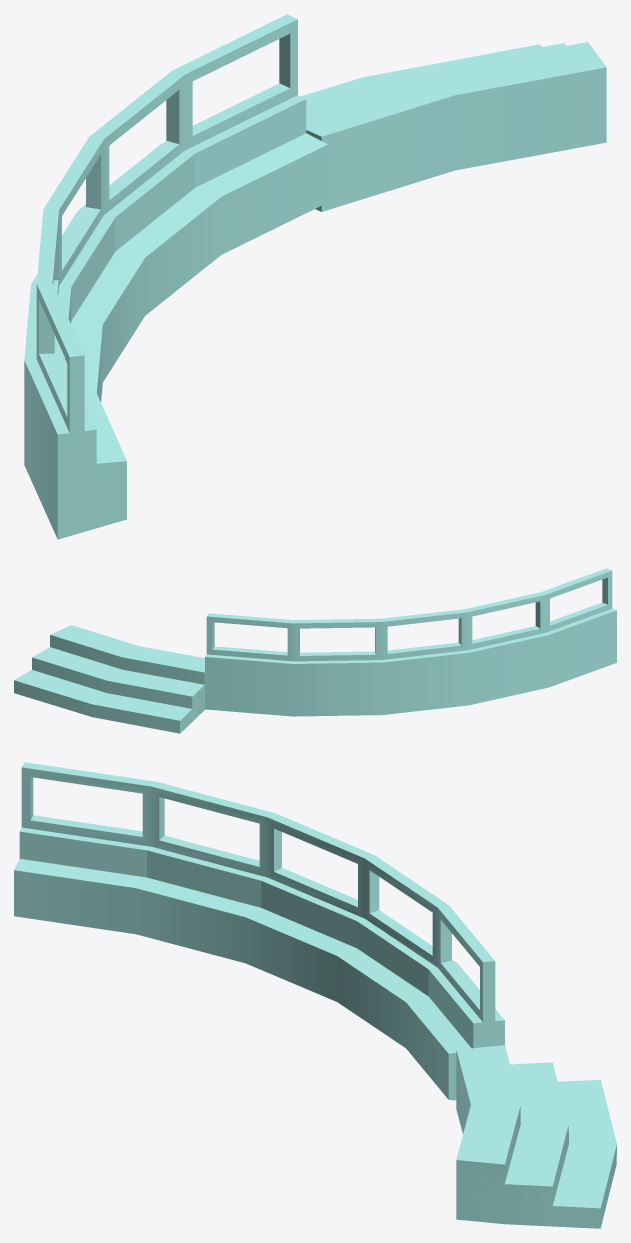
File: floor2.obj
3 views of the same model, one above another, from view 1: azimuth 30°, elevation 25°; view 2: azimuth 150°, elevation 25°; view 3: azimuth 270°, elevation 25° (orthographic). The views are drawn at different scales.
Parts seen in each view (by area): view 1: polySurface3840 main_ring, polySurface3844 stairs_ring; view 2: polySurface3840 main_ring, polySurface3844 stairs_ring; view 3: polySurface3840 main_ring, polySurface3844 stairs_ring.
Part boxes in pixels (x1,y1,x2,y2): polySurface3840 main_ring: (24, 14, 327, 539); polySurface3844 stairs_ring: (301, 42, 606, 211); polySurface3840 main_ring: (205, 568, 616, 716); polySurface3844 stairs_ring: (14, 625, 204, 733); polySurface3840 main_ring: (14, 762, 504, 1100); polySurface3844 stairs_ring: (456, 1045, 616, 1228).
Bounding box in the file's own units: 3200 × 661 × 2500.
